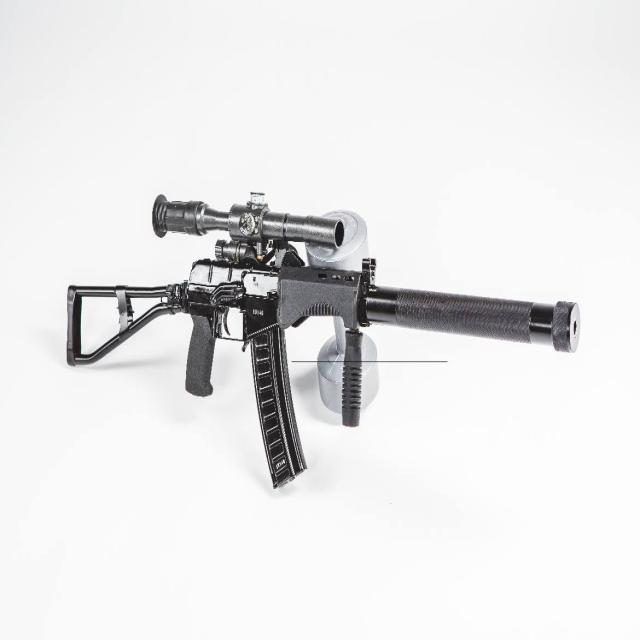Rifle: (67, 197, 580, 490)
